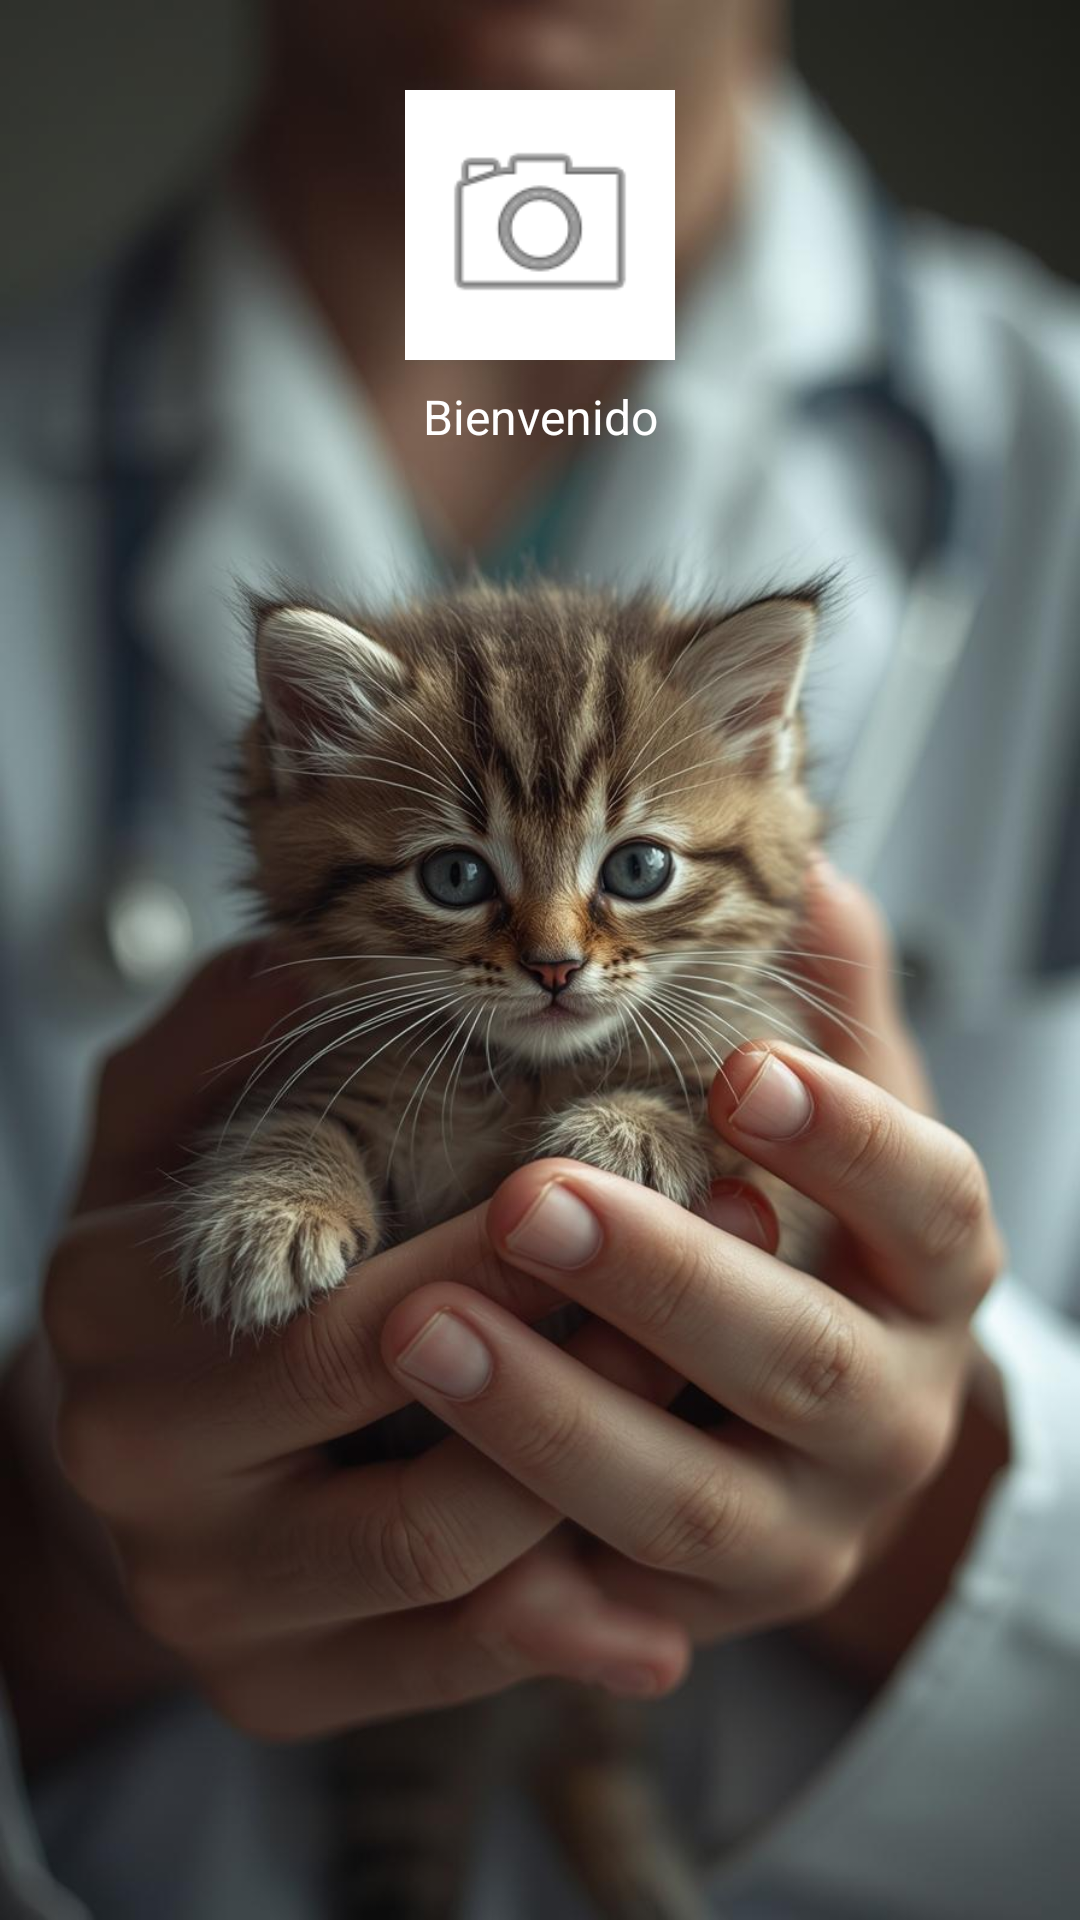

Screen size 1080w x 1920h. Icon name, then its center in pixels as (x=x, y=y):
camera: (x=540, y=225)
